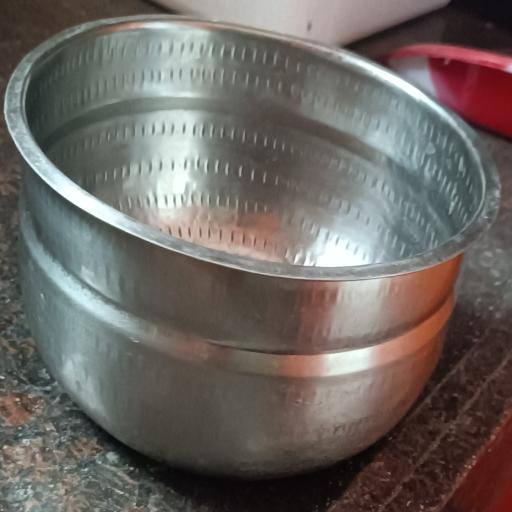vessel: (6, 16, 499, 476)
